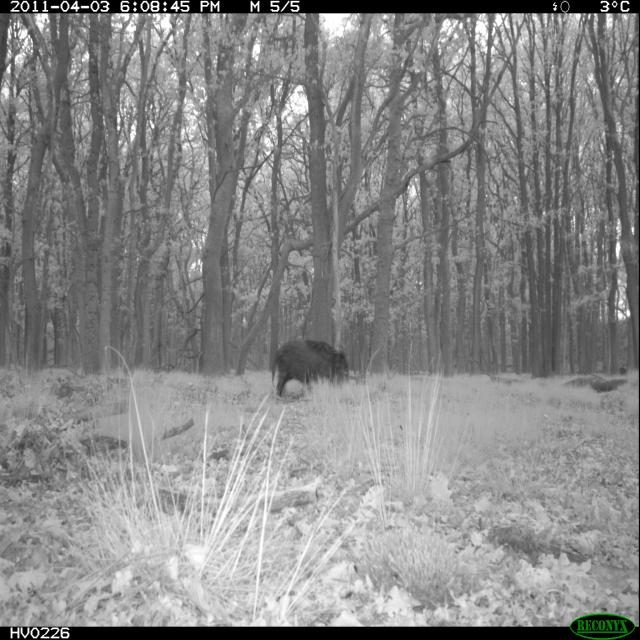boar: (256, 322, 372, 428)
